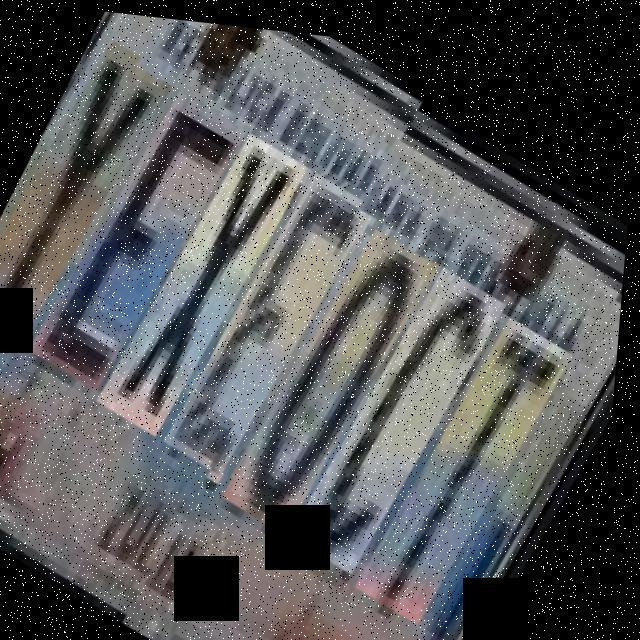C: (303, 231, 521, 571)
E: (37, 71, 254, 404), (172, 147, 385, 485)
O: (236, 193, 453, 534)
T: (372, 279, 588, 619)
X: (104, 110, 317, 448)
Y: (0, 31, 177, 362)
